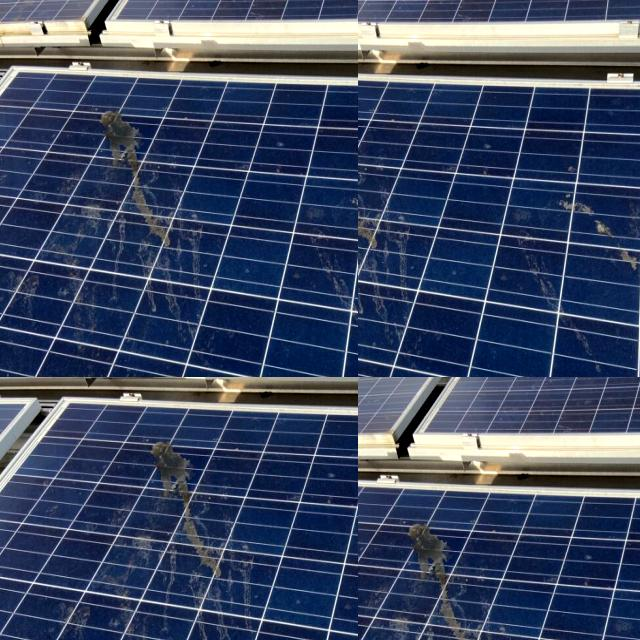bird: (390, 513, 493, 640)
shadow: (472, 178, 640, 377), (380, 207, 446, 377), (431, 2, 479, 152), (358, 219, 419, 265)
